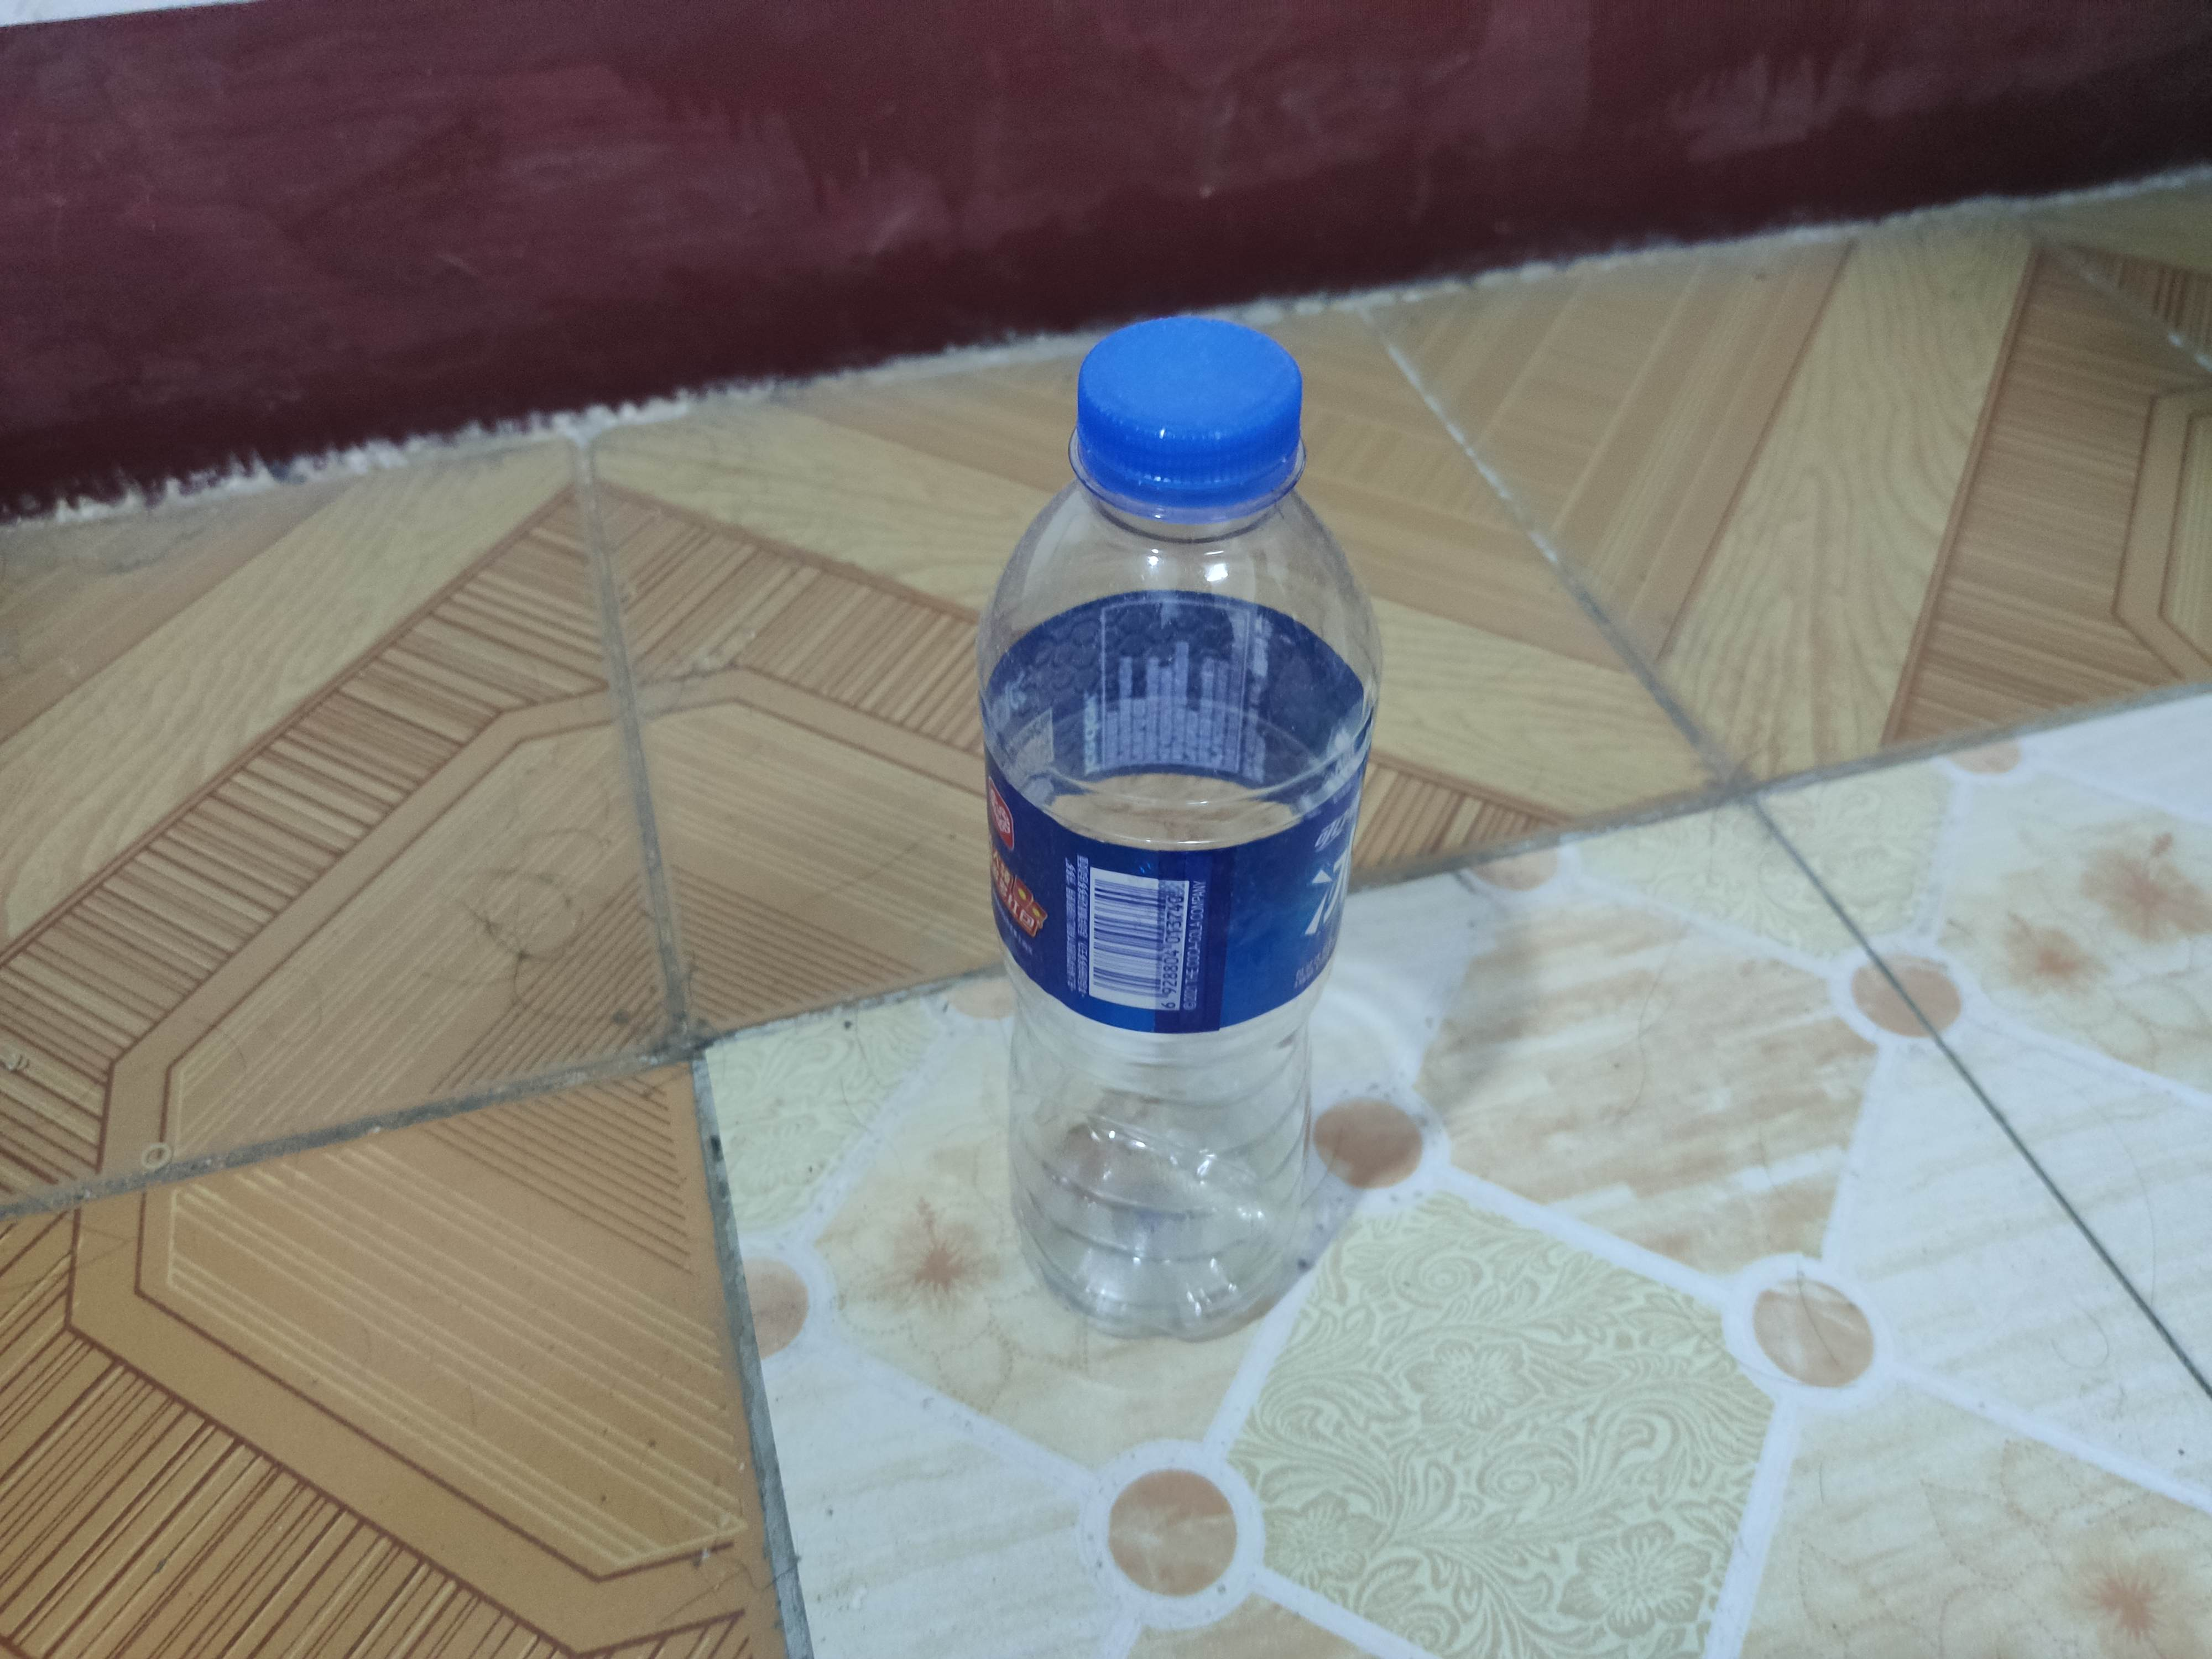Plastic Bottle: (970, 310, 1392, 1349)
